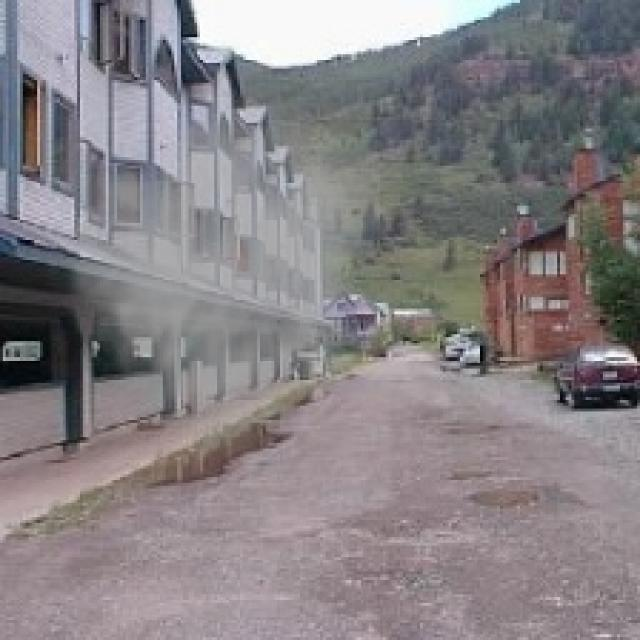Smoke: (31, 71, 380, 466)
